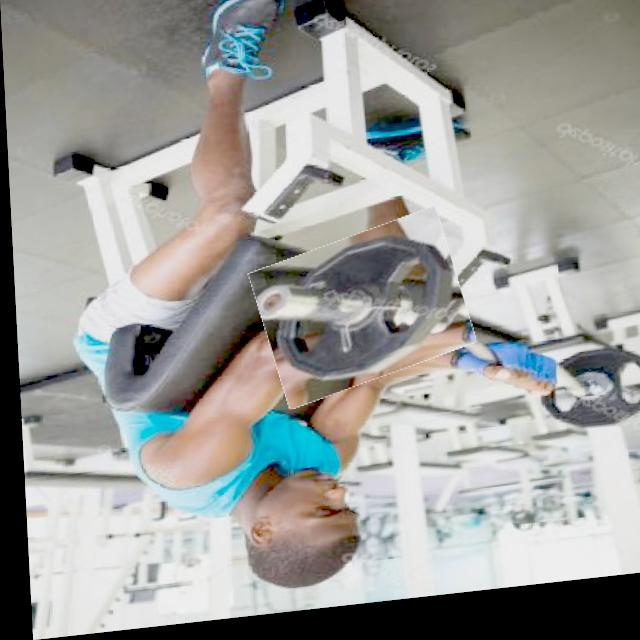barbell: (251, 225, 468, 409)
